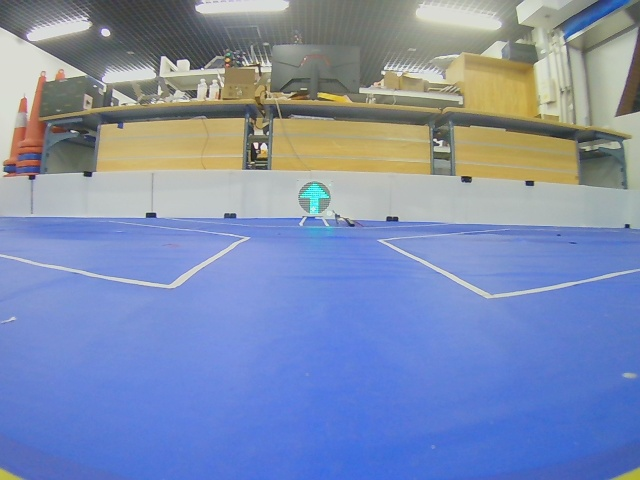straight_green: (298, 181, 331, 216)
